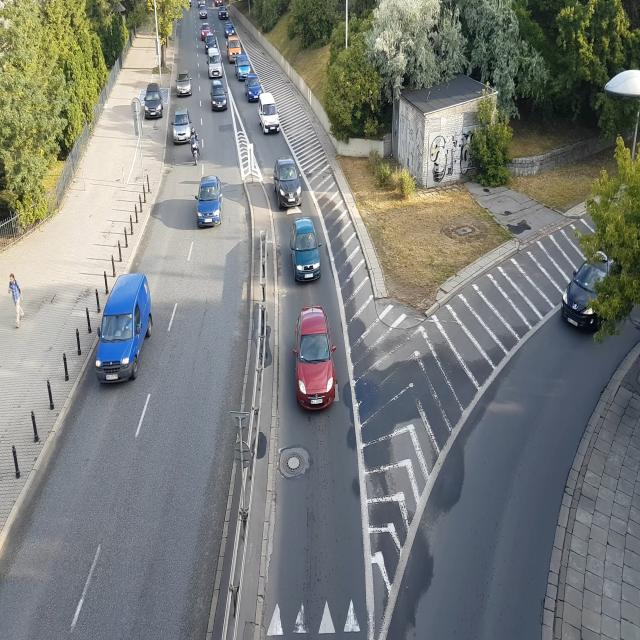car: (91, 261, 150, 403), (556, 239, 610, 339), (293, 306, 338, 416), (292, 219, 321, 284), (274, 158, 305, 212), (196, 175, 224, 230), (258, 100, 280, 136), (142, 86, 164, 120), (172, 111, 192, 143), (212, 83, 230, 112), (244, 77, 262, 101), (177, 75, 193, 98), (235, 56, 251, 79), (228, 36, 242, 59), (204, 33, 218, 50), (208, 61, 222, 77), (199, 22, 212, 36), (224, 21, 235, 36), (199, 2, 208, 20), (220, 8, 230, 20), (215, 1, 223, 8)
motorcycle: (189, 124, 201, 164)
